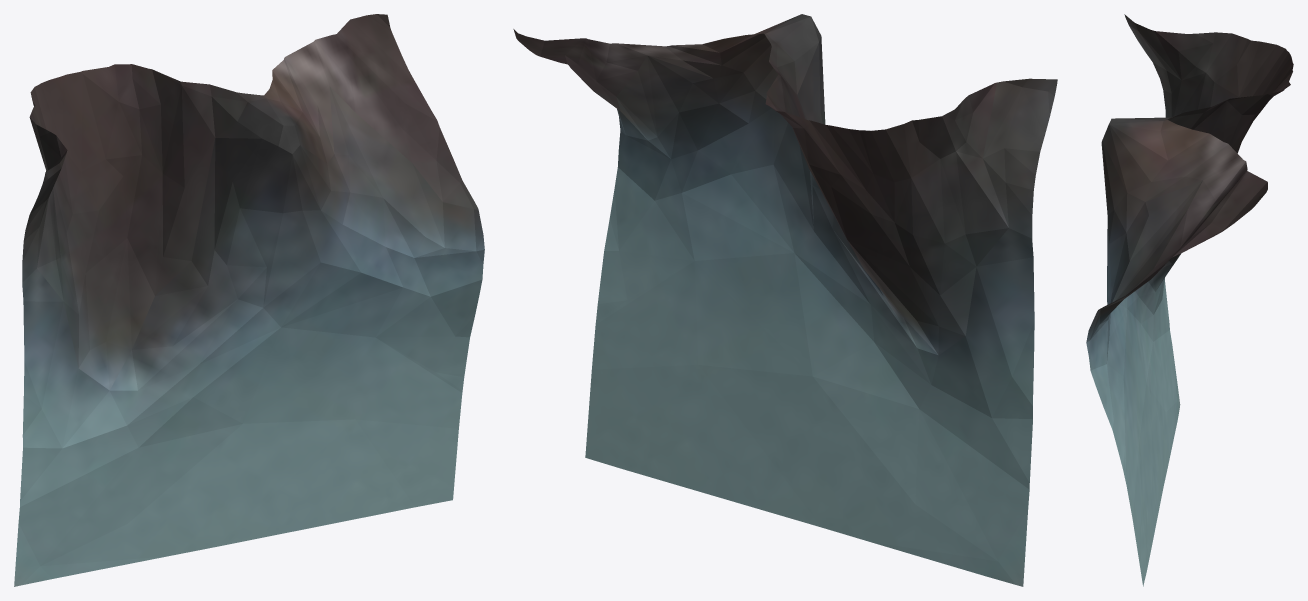
3 renders of one model, left to right at view 1: azimuth 30°, elevation 25°; view 2: azimuth 150°, elevation 25°; view 3: azimuth 270°, elevation 25°, orthographic. The views are drawn at different scales.
Visible parts, largest first — view 1: 091_W_Aya_100K_01; view 2: 091_W_Aya_100K_01; view 3: 091_W_Aya_100K_01.
Boxes of the visible parts, x1=… form: 091_W_Aya_100K_01: x1=14, y1=14, x2=484, y2=586; 091_W_Aya_100K_01: x1=513, y1=14, x2=1057, y2=586; 091_W_Aya_100K_01: x1=1086, y1=14, x2=1293, y2=586.
Bounding box in the file's own units: 42.87 × 42.87 × 20.62.
1 material, 1 textured.
